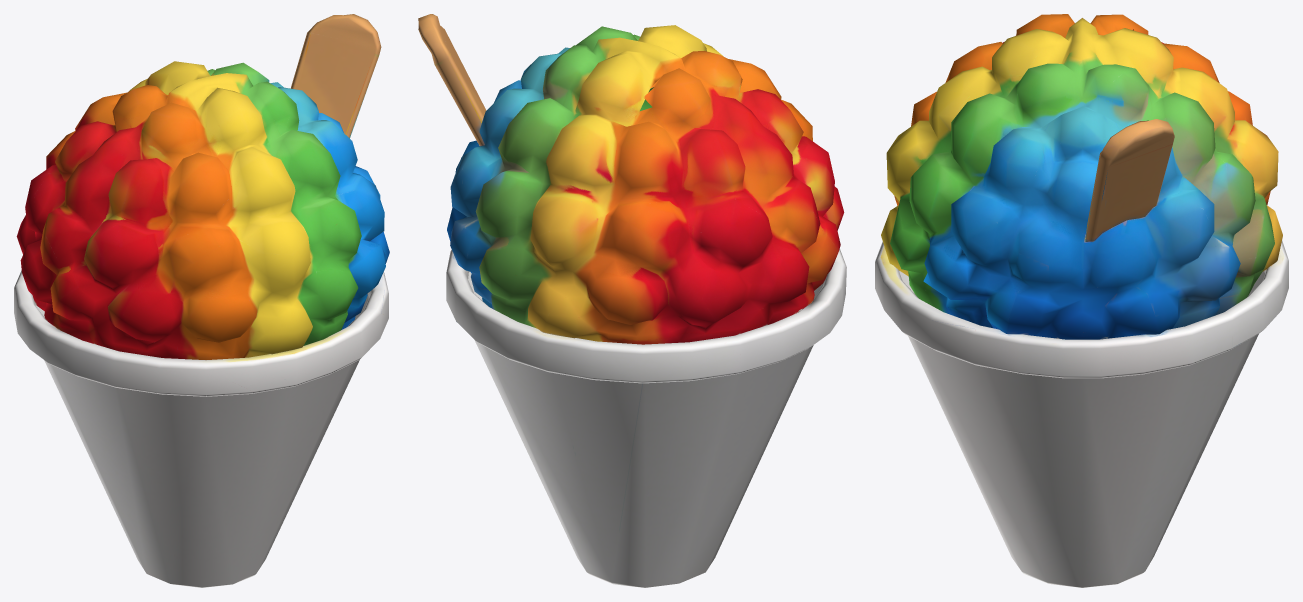
File: rainbowshaveice.glb
3 renders of one model, left to right at view 1: azimuth 30°, elevation 25°; view 2: azimuth 150°, elevation 25°; view 3: azimuth 270°, elevation 25°, orthographic. The views are drawn at different scales.
Bounding box in the file's own units: 0.7715 × 1 × 0.7051.
Materials: 1 (1 with a texture image).
